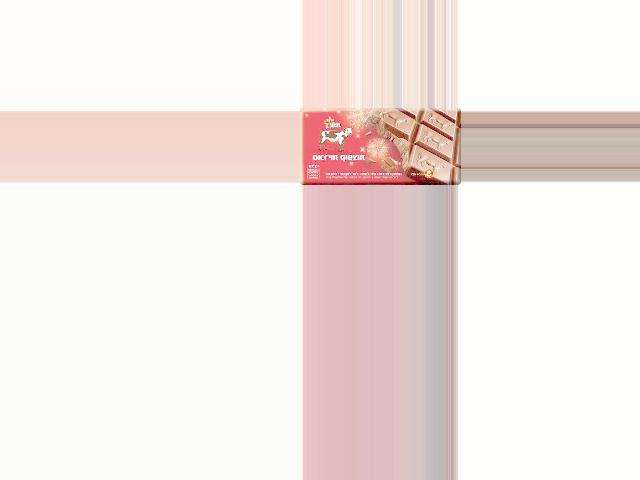chocolate: (299, 108, 460, 184)
